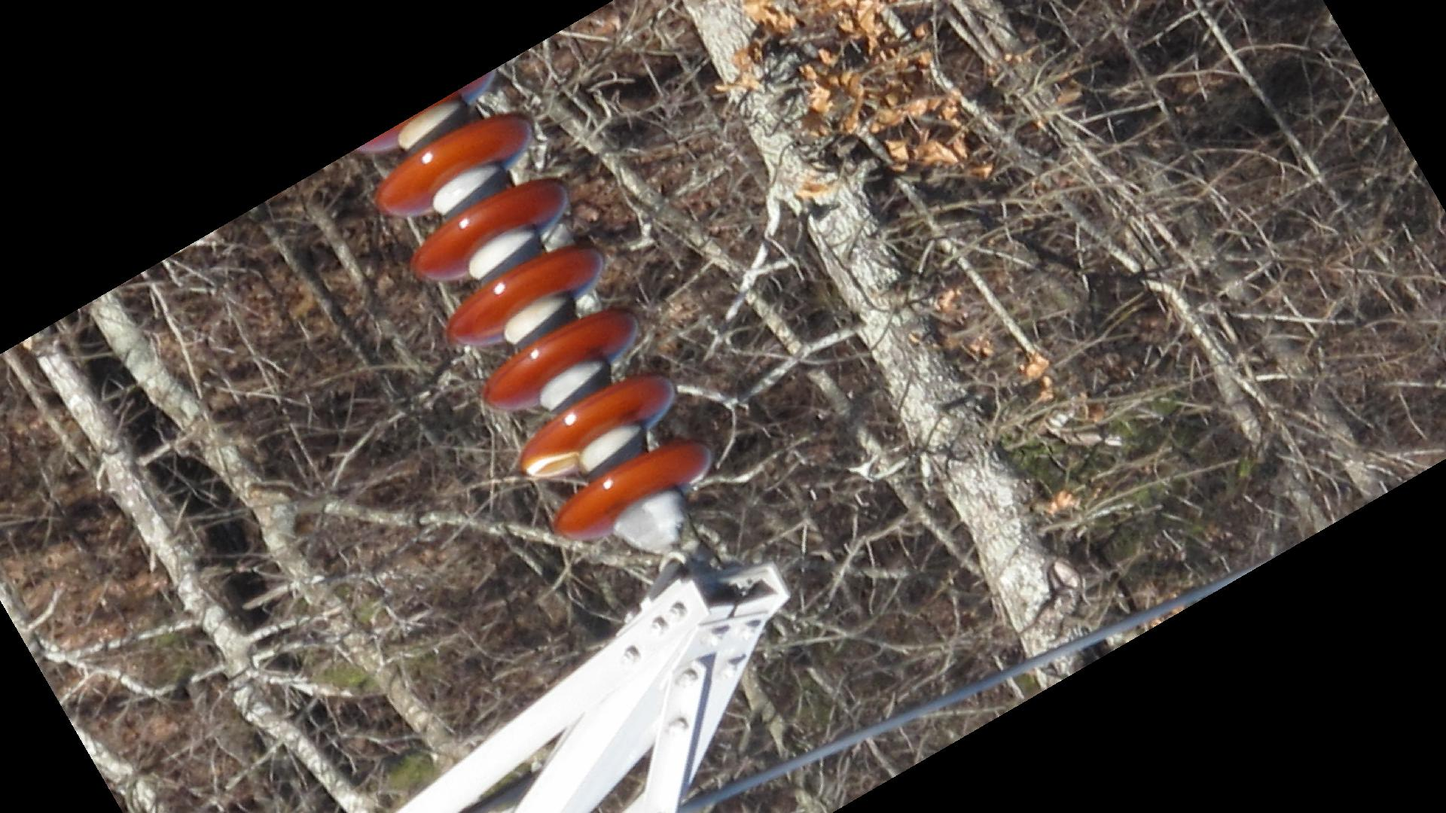insulator: (341, 60, 720, 544)
insulator_flashover: (525, 448, 581, 480)
